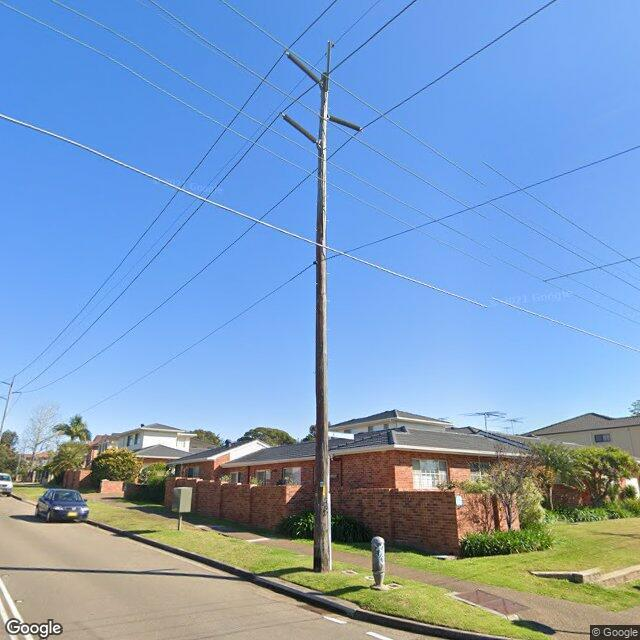HV-transmission: (282, 42, 364, 148), (0, 381, 22, 402)
timber-pole: (313, 70, 331, 573), (0, 374, 16, 436)
